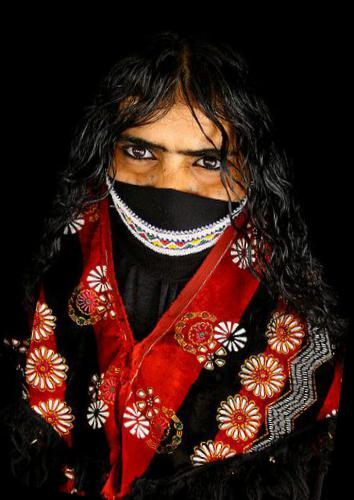WRONG: (94, 104, 266, 281)
